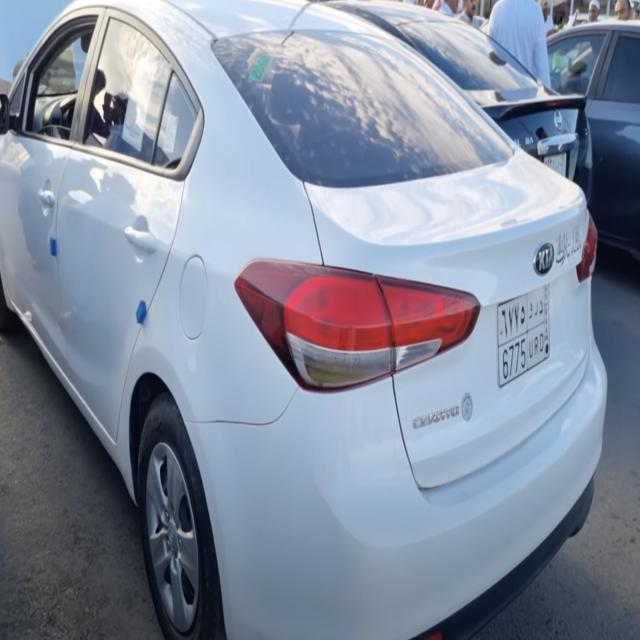license_plate: (496, 276, 554, 387), (544, 152, 568, 182)
